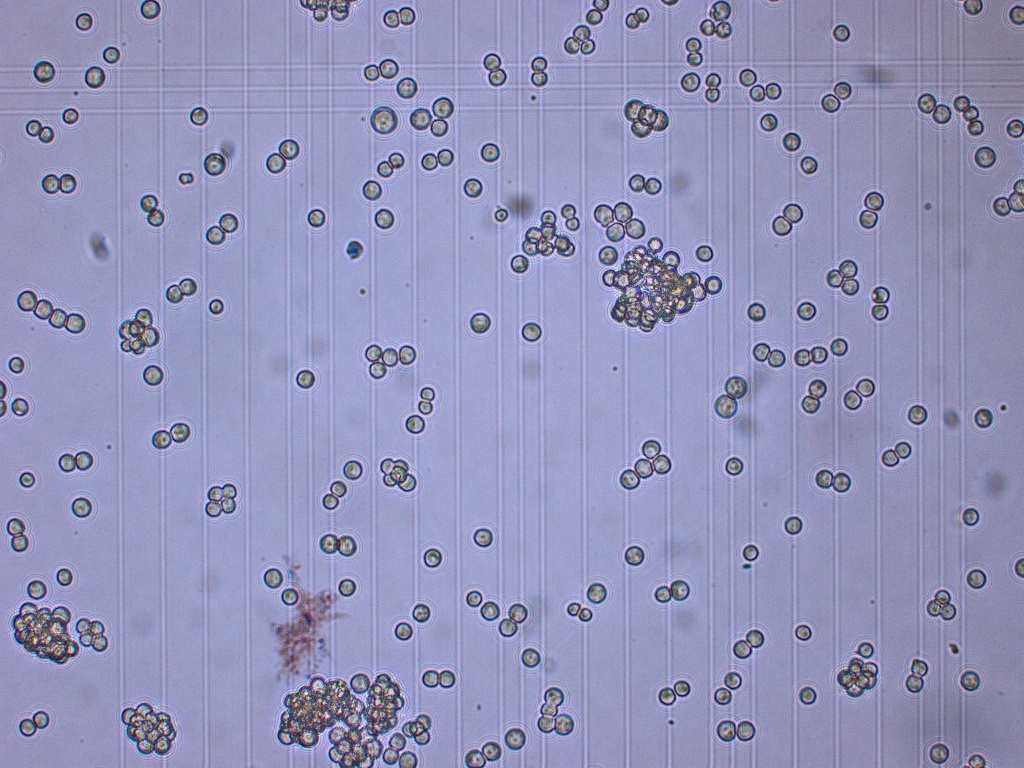Aggregate: (276, 675, 401, 768), (603, 245, 703, 333), (11, 603, 79, 665), (121, 702, 176, 754), (521, 208, 574, 257), (120, 308, 160, 356), (837, 658, 878, 697), (381, 457, 416, 492)
dead: (347, 239, 362, 259)
live: (371, 105, 397, 134), (204, 153, 226, 177), (33, 60, 54, 85), (505, 728, 527, 750), (336, 534, 358, 556), (411, 107, 432, 130), (715, 395, 736, 418), (960, 669, 981, 691), (929, 742, 950, 764), (770, 214, 792, 235), (84, 66, 105, 88), (397, 76, 417, 99), (976, 145, 995, 169), (470, 312, 491, 333), (619, 469, 640, 490), (278, 139, 299, 160), (170, 421, 191, 442), (433, 97, 455, 117), (72, 496, 93, 516), (710, 1, 731, 21), (264, 567, 283, 589), (726, 376, 746, 396), (598, 245, 618, 265), (717, 720, 736, 741), (405, 414, 426, 433), (343, 460, 362, 481), (464, 748, 485, 767), (748, 301, 766, 323), (18, 289, 35, 312), (864, 190, 884, 209), (625, 545, 644, 565), (587, 582, 607, 601), (681, 71, 700, 91), (653, 454, 672, 474), (521, 647, 540, 667), (320, 533, 339, 553), (522, 322, 543, 340), (474, 527, 492, 548), (671, 578, 689, 599), (594, 204, 612, 225), (556, 714, 574, 735), (975, 407, 992, 429), (833, 470, 850, 492), (68, 311, 85, 333), (464, 178, 483, 197), (760, 112, 779, 131), (424, 548, 443, 567), (350, 673, 369, 692), (362, 180, 382, 198), (295, 370, 315, 388), (511, 254, 529, 274), (909, 404, 927, 424), (966, 569, 986, 587), (509, 603, 527, 623), (413, 602, 431, 622), (144, 364, 162, 384), (267, 153, 285, 173), (206, 225, 224, 245), (59, 453, 77, 473), (7, 516, 27, 534), (614, 202, 634, 220), (733, 639, 750, 660), (140, 1, 161, 18), (42, 173, 59, 194), (50, 306, 67, 327), (481, 143, 499, 162), (380, 59, 398, 78), (738, 68, 756, 87), (753, 342, 771, 361), (821, 93, 839, 112), (802, 394, 820, 413), (747, 628, 765, 647), (139, 194, 157, 213), (627, 219, 645, 238), (859, 209, 876, 229), (934, 103, 951, 123), (654, 584, 671, 604), (481, 600, 498, 620), (738, 720, 755, 740), (37, 298, 52, 320), (1009, 4, 1024, 26), (190, 106, 208, 124), (800, 156, 818, 174), (784, 203, 802, 221), (839, 259, 857, 277), (642, 439, 660, 457), (499, 618, 517, 636), (906, 674, 924, 692), (369, 361, 387, 379), (220, 212, 238, 230), (75, 451, 93, 469), (606, 223, 624, 241), (857, 641, 875, 659), (798, 301, 815, 320), (855, 378, 874, 395), (725, 457, 744, 474), (918, 92, 935, 111), (1006, 118, 1023, 137), (882, 448, 899, 467), (809, 378, 826, 397), (482, 742, 501, 759), (103, 46, 120, 65), (12, 397, 29, 416), (992, 197, 1009, 216), (544, 687, 563, 704), (784, 131, 800, 151), (963, 506, 979, 526), (76, 11, 92, 31), (833, 24, 850, 42), (743, 543, 760, 561), (800, 685, 817, 703), (911, 658, 929, 675), (365, 344, 383, 361), (339, 577, 356, 595), (422, 669, 439, 687), (28, 579, 45, 597), (165, 285, 183, 302), (483, 53, 501, 70), (844, 390, 860, 409), (768, 347, 784, 366), (749, 83, 765, 102), (400, 345, 416, 364), (487, 71, 506, 87), (441, 668, 456, 688), (401, 5, 415, 26), (873, 286, 890, 303), (323, 492, 340, 509), (307, 209, 325, 225), (843, 277, 859, 295), (659, 686, 675, 704), (675, 680, 691, 698), (724, 672, 742, 688), (147, 208, 163, 226), (282, 587, 298, 605), (8, 355, 24, 373), (57, 567, 73, 585), (377, 208, 392, 227), (812, 344, 827, 363), (816, 469, 831, 488), (61, 173, 76, 192), (706, 275, 721, 294), (696, 245, 713, 261), (872, 303, 888, 320), (784, 516, 801, 532), (831, 338, 847, 355), (153, 430, 169, 447), (33, 710, 49, 727), (586, 9, 603, 25), (718, 21, 734, 38), (432, 117, 447, 135), (636, 458, 651, 476), (395, 621, 410, 639), (64, 106, 79, 124), (11, 536, 29, 551), (383, 9, 398, 27), (383, 347, 397, 366), (834, 81, 850, 97), (765, 82, 781, 98), (714, 687, 730, 703), (206, 501, 222, 517), (532, 71, 548, 87), (401, 751, 417, 767), (795, 623, 810, 640), (895, 441, 910, 458), (19, 719, 34, 736), (574, 24, 589, 41), (826, 269, 840, 287), (39, 123, 53, 141), (963, 1, 981, 15), (27, 120, 43, 135), (20, 471, 35, 487), (531, 56, 546, 72), (74, 618, 90, 633), (940, 604, 955, 620), (580, 39, 596, 54), (795, 348, 809, 365), (647, 176, 661, 193), (221, 499, 238, 513), (934, 589, 951, 603), (634, 6, 648, 23), (377, 161, 392, 176), (705, 72, 720, 87), (180, 278, 195, 293), (438, 149, 452, 165), (330, 481, 346, 495), (390, 732, 404, 748), (926, 600, 940, 616), (384, 748, 398, 764), (365, 64, 378, 81), (629, 173, 642, 190), (967, 753, 984, 766), (955, 94, 969, 109), (969, 120, 984, 134), (467, 590, 481, 605), (418, 399, 432, 414), (209, 299, 224, 313), (221, 482, 235, 497), (688, 50, 702, 65), (700, 19, 714, 34), (93, 636, 107, 651), (564, 37, 577, 53), (964, 106, 980, 119), (538, 718, 554, 731), (625, 13, 638, 29), (208, 484, 220, 501), (705, 87, 719, 101), (578, 607, 592, 621), (420, 386, 435, 399), (687, 36, 700, 50), (90, 620, 103, 634), (568, 602, 581, 616), (539, 704, 557, 714), (1014, 559, 1023, 579), (496, 209, 510, 221), (592, 1, 609, 10), (81, 632, 91, 646)
